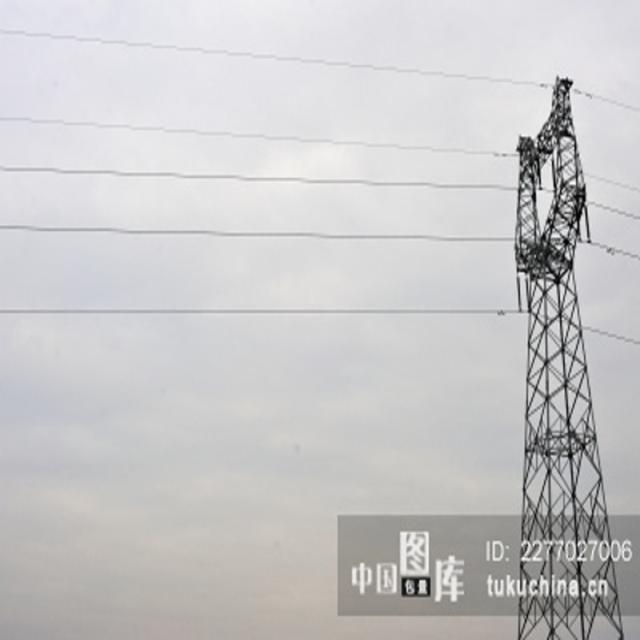non-critical vegetation: (489, 110, 621, 634)
